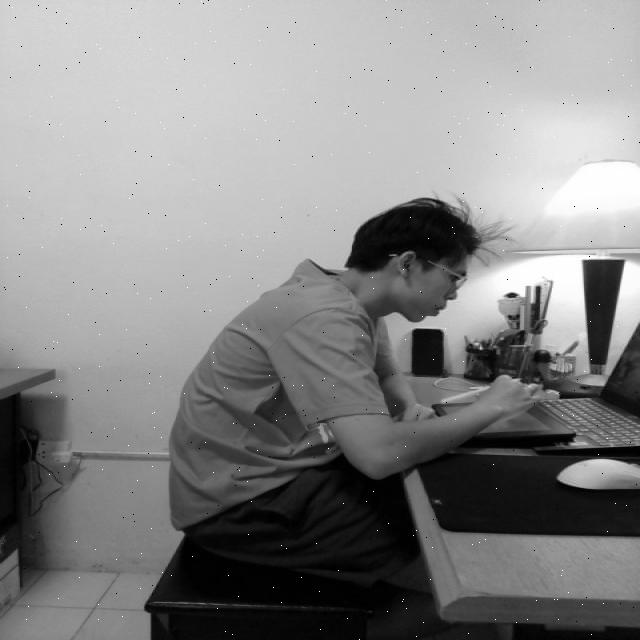Bad: (153, 183, 526, 565)
